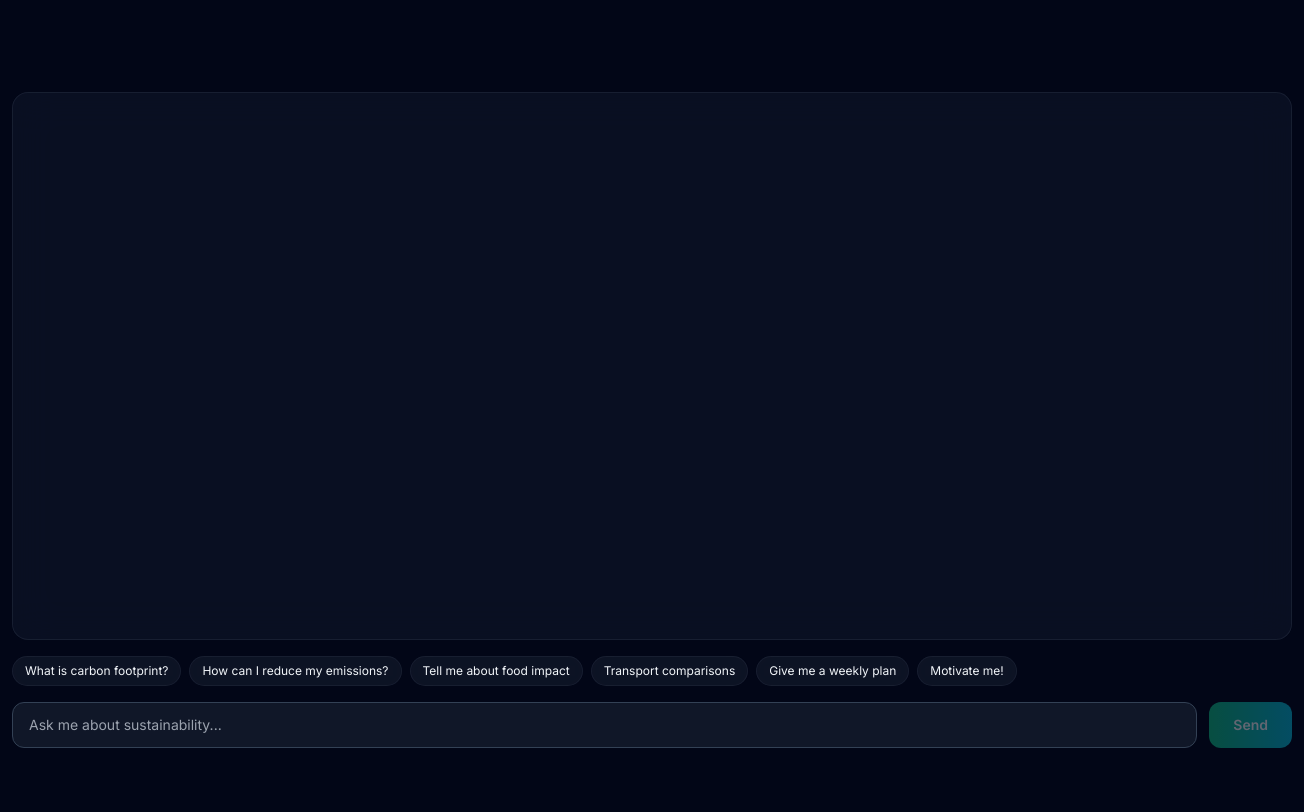
Test: CoachPage › allows clicking suggestion chips
This screenshot has width=1304, height=812.
Step 1. Click the button "What is carbon footprint?" → click(97, 671), box top-left (12, 656), bottom-right (182, 686)
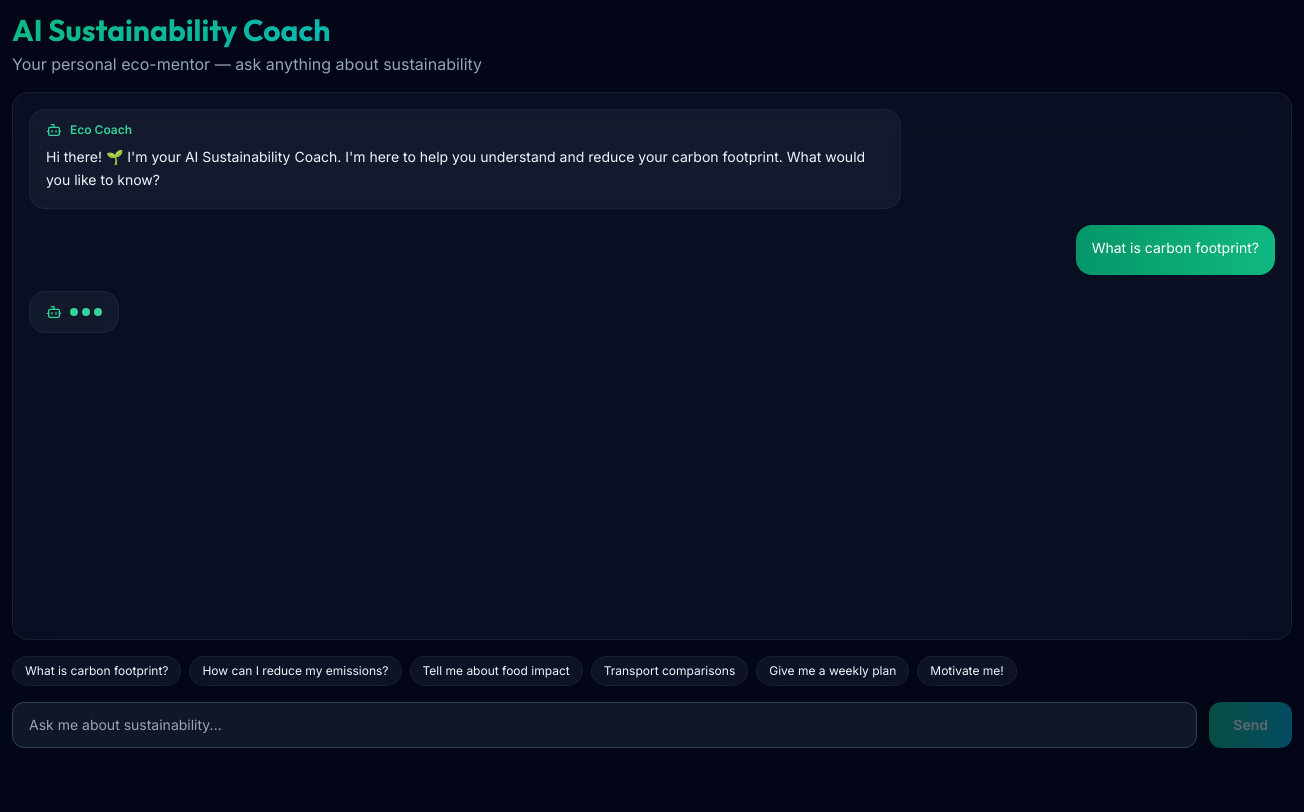
Now the text "What is carbon footprint?" is shown, box top-left (1092, 236), bottom-right (1259, 259)
